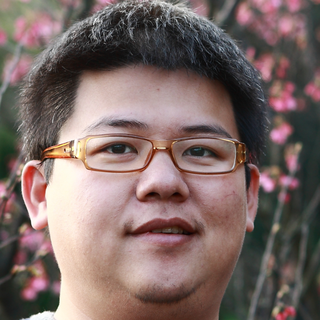eye: (93, 139, 141, 163), (181, 141, 226, 165)
